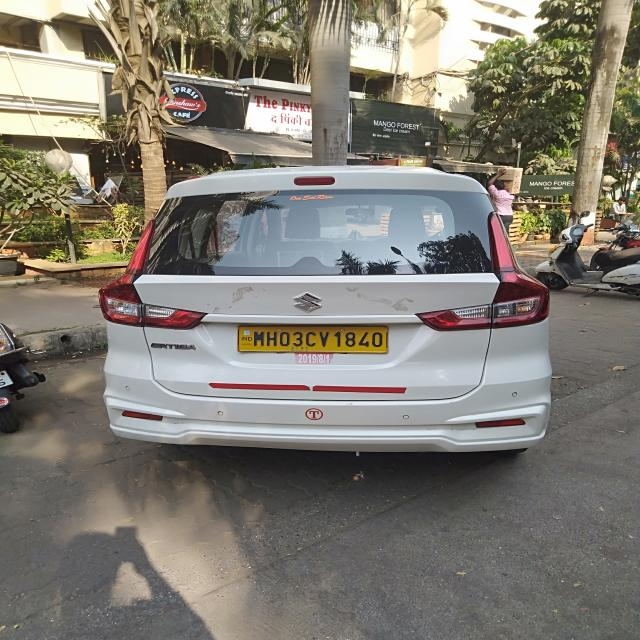Number-Plate: (241, 322, 385, 351)
